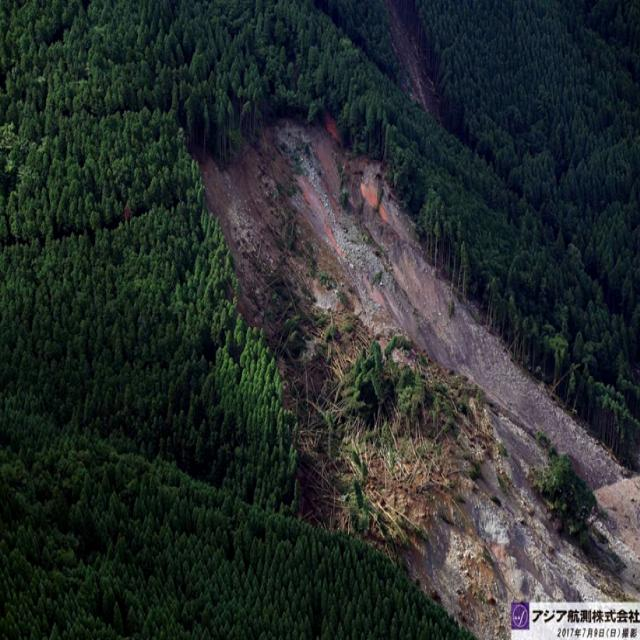Debris-flow: (201, 120, 640, 638), (250, 238, 515, 563), (386, 0, 439, 117), (451, 542, 508, 638)
